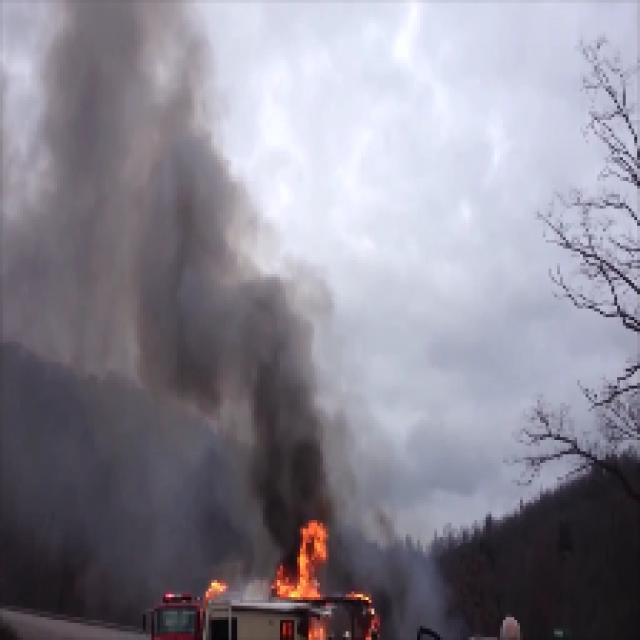fire: (274, 523, 332, 599)
smoke: (9, 3, 197, 578), (201, 156, 338, 501)
